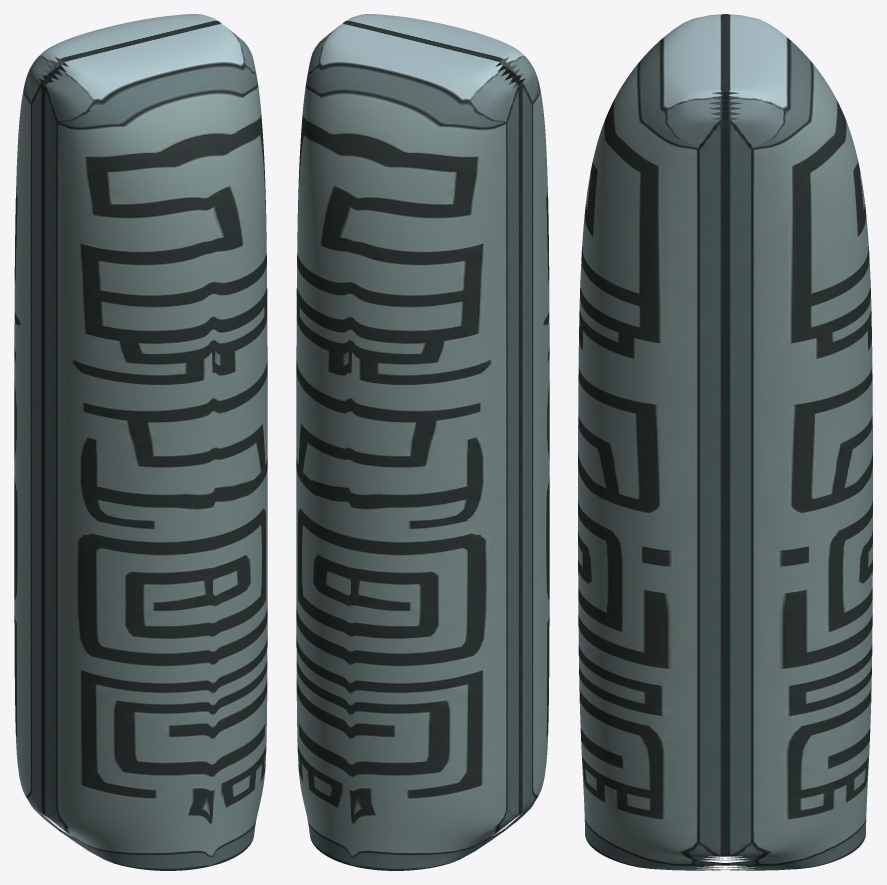
The model's file is carved_pier.glb.
3 renders of one model, left to right at view 1: azimuth 30°, elevation 25°; view 2: azimuth 150°, elevation 25°; view 3: azimuth 270°, elevation 25°, orthographic.
Visible parts, largest first — view 1: carved_pier; view 2: carved_pier; view 3: carved_pier.
Part boxes in pixels (box(x1,y1,x2,y2)): carved_pier: box(14, 14, 267, 870); carved_pier: box(296, 14, 549, 870); carved_pier: box(578, 14, 872, 870).
Bounding box in the file's own units: 0.9596 × 3.63 × 1.24.
Materials: 1 (1 with a texture image).
